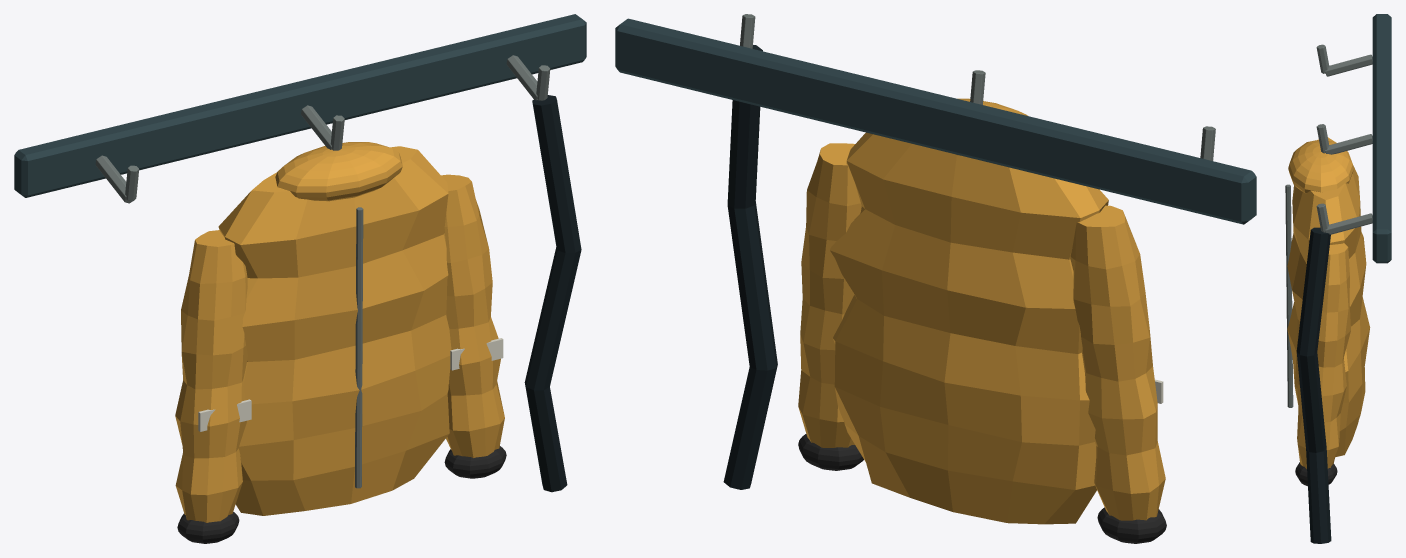
File: coat-hook-workwear.glb
3 renders of one model, left to right at view 1: azimuth 30°, elevation 25°; view 2: azimuth 150°, elevation 25°; view 3: azimuth 270°, elevation 25°, orthographic. The views are drawn at different scales.
Visible parts, largest first — view 1: coat-hook-workwear__coat-hook-workwear__cloth-amber, coat-hook-workwear__coat-hook-workwear__steel, coat-hook-workwear__coat-hook-workwear__rubber, coat-hook-workwear__coat-hook-workwear__hardware, coat-hook-workwear__coat-hook-workwear__cloth-black, coat-hook-workwear__coat-hook-workwear__ivory; view 2: coat-hook-workwear__coat-hook-workwear__cloth-amber, coat-hook-workwear__coat-hook-workwear__steel, coat-hook-workwear__coat-hook-workwear__rubber, coat-hook-workwear__coat-hook-workwear__cloth-black, coat-hook-workwear__coat-hook-workwear__hardware; view 3: coat-hook-workwear__coat-hook-workwear__cloth-amber, coat-hook-workwear__coat-hook-workwear__rubber, coat-hook-workwear__coat-hook-workwear__steel, coat-hook-workwear__coat-hook-workwear__hardware, coat-hook-workwear__coat-hook-workwear__cloth-black.
Boxes of the visible parts, x1=… form: coat-hook-workwear__coat-hook-workwear__cloth-amber: x1=175, y1=142, x2=504, y2=522; coat-hook-workwear__coat-hook-workwear__steel: x1=14, y1=14, x2=586, y2=197; coat-hook-workwear__coat-hook-workwear__rubber: x1=524, y1=95, x2=581, y2=492; coat-hook-workwear__coat-hook-workwear__hardware: x1=95, y1=55, x2=550, y2=488; coat-hook-workwear__coat-hook-workwear__cloth-black: x1=177, y1=446, x2=506, y2=543; coat-hook-workwear__coat-hook-workwear__ivory: x1=198, y1=338, x2=503, y2=431; coat-hook-workwear__coat-hook-workwear__cloth-amber: x1=798, y1=98, x2=1165, y2=524; coat-hook-workwear__coat-hook-workwear__steel: x1=615, y1=18, x2=1256, y2=224; coat-hook-workwear__coat-hook-workwear__rubber: x1=723, y1=45, x2=777, y2=489; coat-hook-workwear__coat-hook-workwear__cloth-black: x1=798, y1=434, x2=1166, y2=543; coat-hook-workwear__coat-hook-workwear__hardware: x1=740, y1=14, x2=1215, y2=160; coat-hook-workwear__coat-hook-workwear__cloth-amber: x1=1287, y1=137, x2=1370, y2=468; coat-hook-workwear__coat-hook-workwear__rubber: x1=1296, y1=227, x2=1331, y2=543; coat-hook-workwear__coat-hook-workwear__steel: x1=1372, y1=14, x2=1391, y2=263; coat-hook-workwear__coat-hook-workwear__hardware: x1=1285, y1=44, x2=1372, y2=407; coat-hook-workwear__coat-hook-workwear__cloth-black: x1=1295, y1=462, x2=1337, y2=486.
Size of the model in its own units: 1.1 by 0.7943 by 0.2259.
